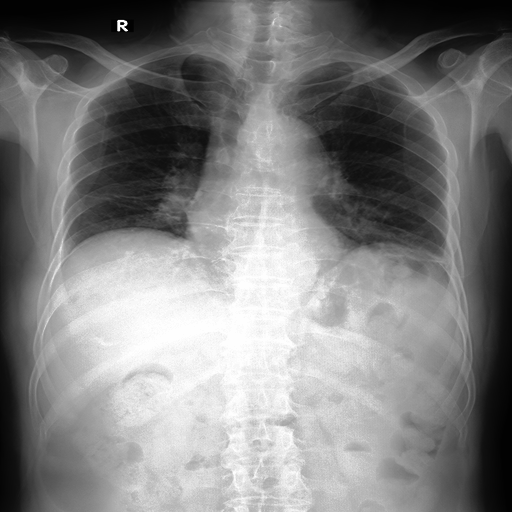Calcification: (422, 240, 449, 268)
Consolidation: (260, 116, 335, 195)
Other lesion: (219, 54, 274, 184)
Pleural effusion: (422, 240, 449, 268)
Pneumothorax: (71, 185, 162, 209), (382, 245, 453, 266)
